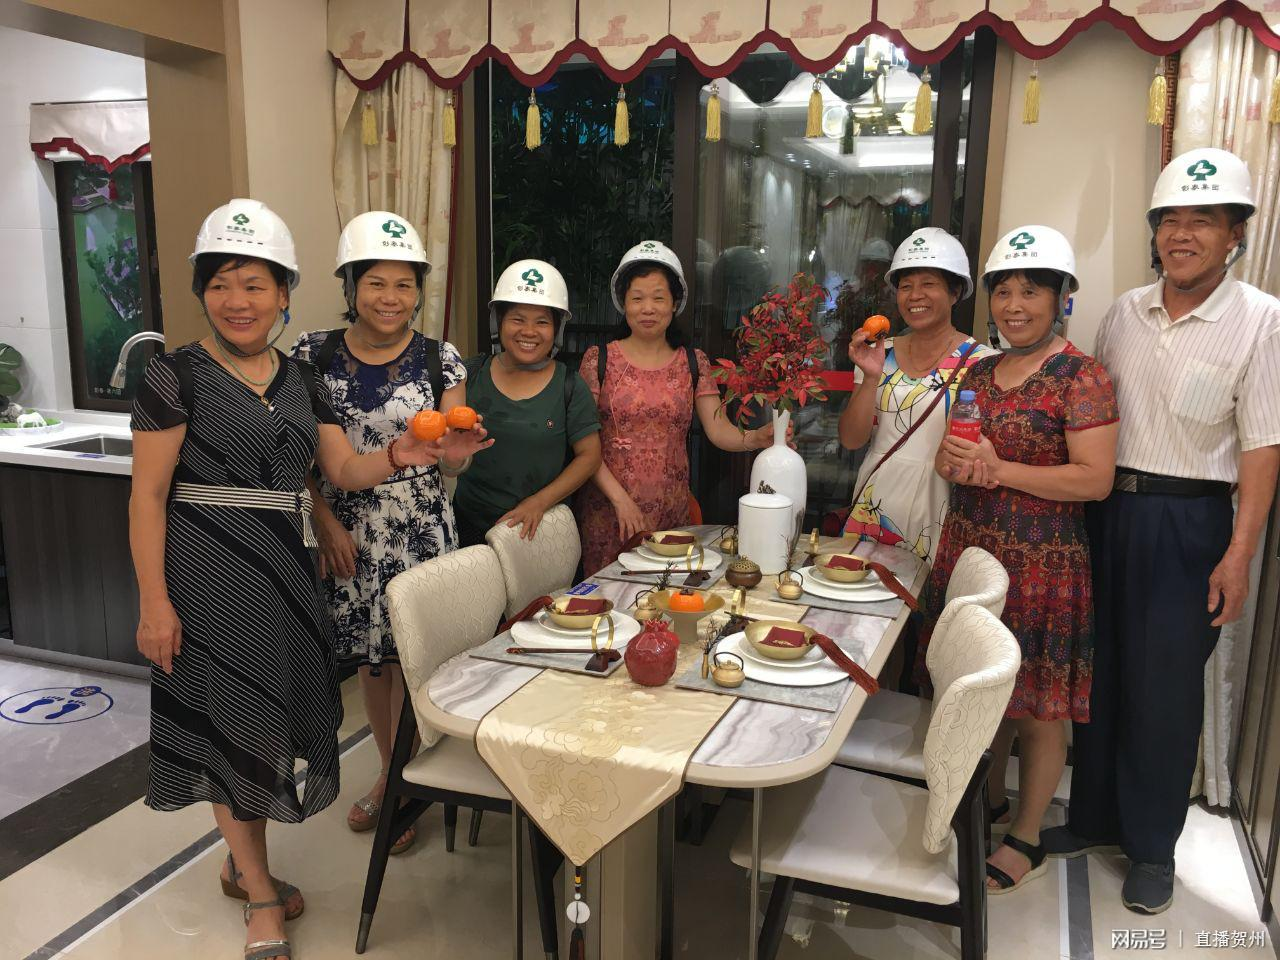helmet: (188, 199, 303, 288), (1147, 148, 1260, 227), (333, 211, 434, 279), (981, 226, 1084, 291), (887, 227, 975, 297), (487, 260, 577, 321), (611, 241, 685, 282)
